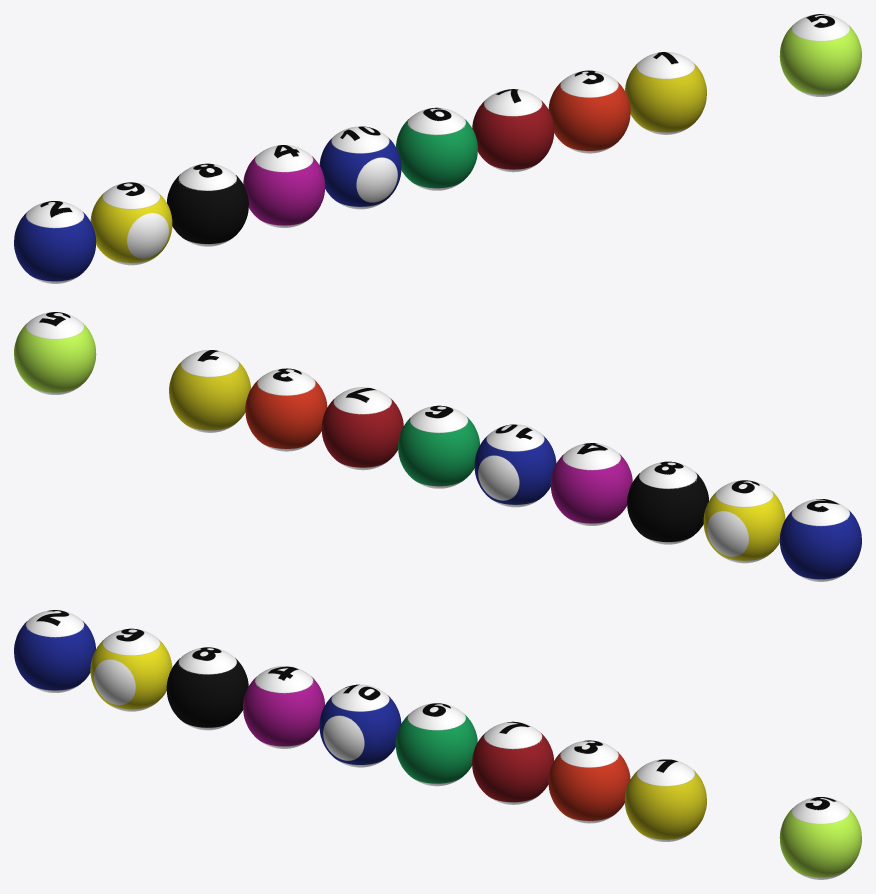
File: marbleraceballs.glb
3 renders of one model, top to bottom at view 1: azimuth 30°, elevation 25°; view 2: azimuth 150°, elevation 25°; view 3: azimuth 330°, elevation 25°, orthographic.
Parts seen in each view (by area): view 1: two, two9.001, two7, two5, two2, two6, two8, two3, two4, two1; view 2: two, two9.001, two7, two5, two2, two6, two8, two3, two4, two1; view 3: two8, two9.001, two7, two5, two2, two, two6, two3, two4, two1.
Boxes of the visible parts, x1,y1,x2,y2 form: two: [14, 201, 96, 283]; two9.001: [779, 14, 861, 96]; two7: [548, 70, 630, 153]; two5: [396, 107, 477, 190]; two2: [167, 163, 248, 246]; two6: [472, 89, 554, 172]; two8: [625, 52, 706, 134]; two3: [243, 145, 325, 227]; two4: [319, 126, 401, 209]; two1: [90, 182, 172, 265]; two: [779, 499, 861, 581]; two9.001: [14, 312, 96, 394]; two7: [245, 368, 327, 451]; two5: [398, 405, 479, 488]; two2: [627, 461, 708, 544]; two6: [321, 387, 403, 470]; two8: [169, 350, 250, 432]; two3: [550, 443, 632, 525]; two4: [474, 424, 556, 507]; two1: [703, 480, 785, 563]; two8: [624, 759, 706, 841]; two9.001: [779, 797, 861, 879]; two7: [548, 740, 630, 823]; two5: [395, 703, 477, 786]; two2: [166, 647, 248, 730]; two: [14, 610, 95, 692]; two6: [472, 721, 553, 804]; two3: [243, 666, 324, 748]; two4: [319, 684, 401, 767]; two1: [90, 628, 172, 711].
Size of the model in its own units: 5.89 by 0.5088 by 0.5015.
Materials: 10 (10 with a texture image).
